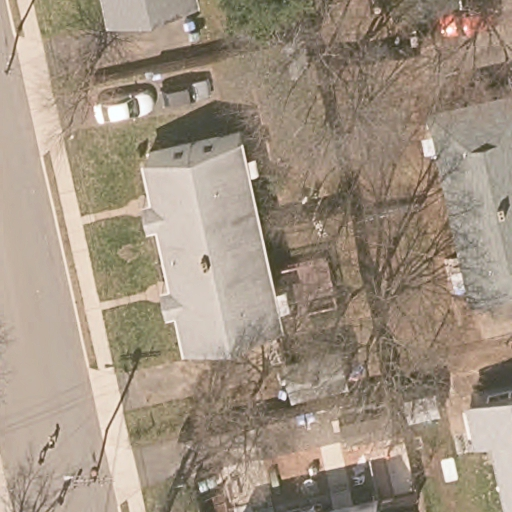DT: (62, 429, 108, 488), (3, 26, 21, 76)
